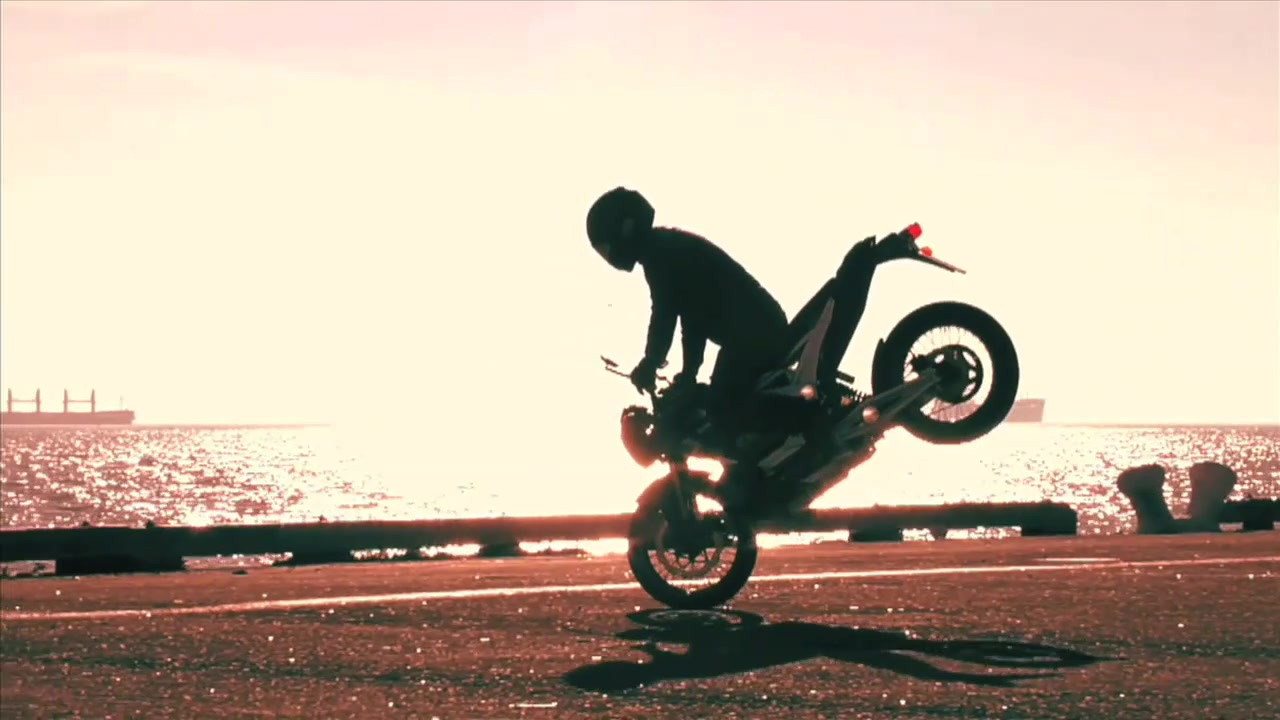motorbike: (604, 224, 1022, 607)
